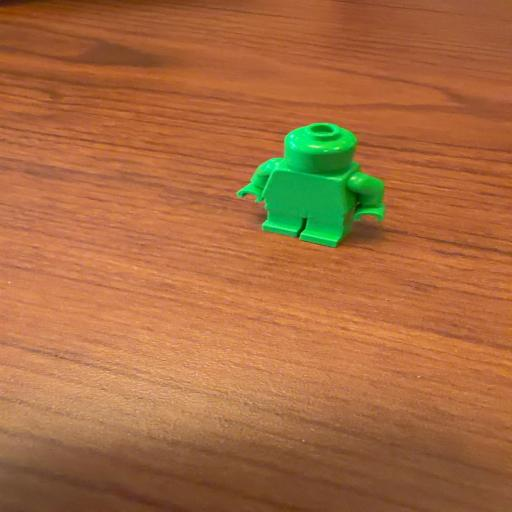UnoQ-minifig-detector: (237, 122, 385, 247)
